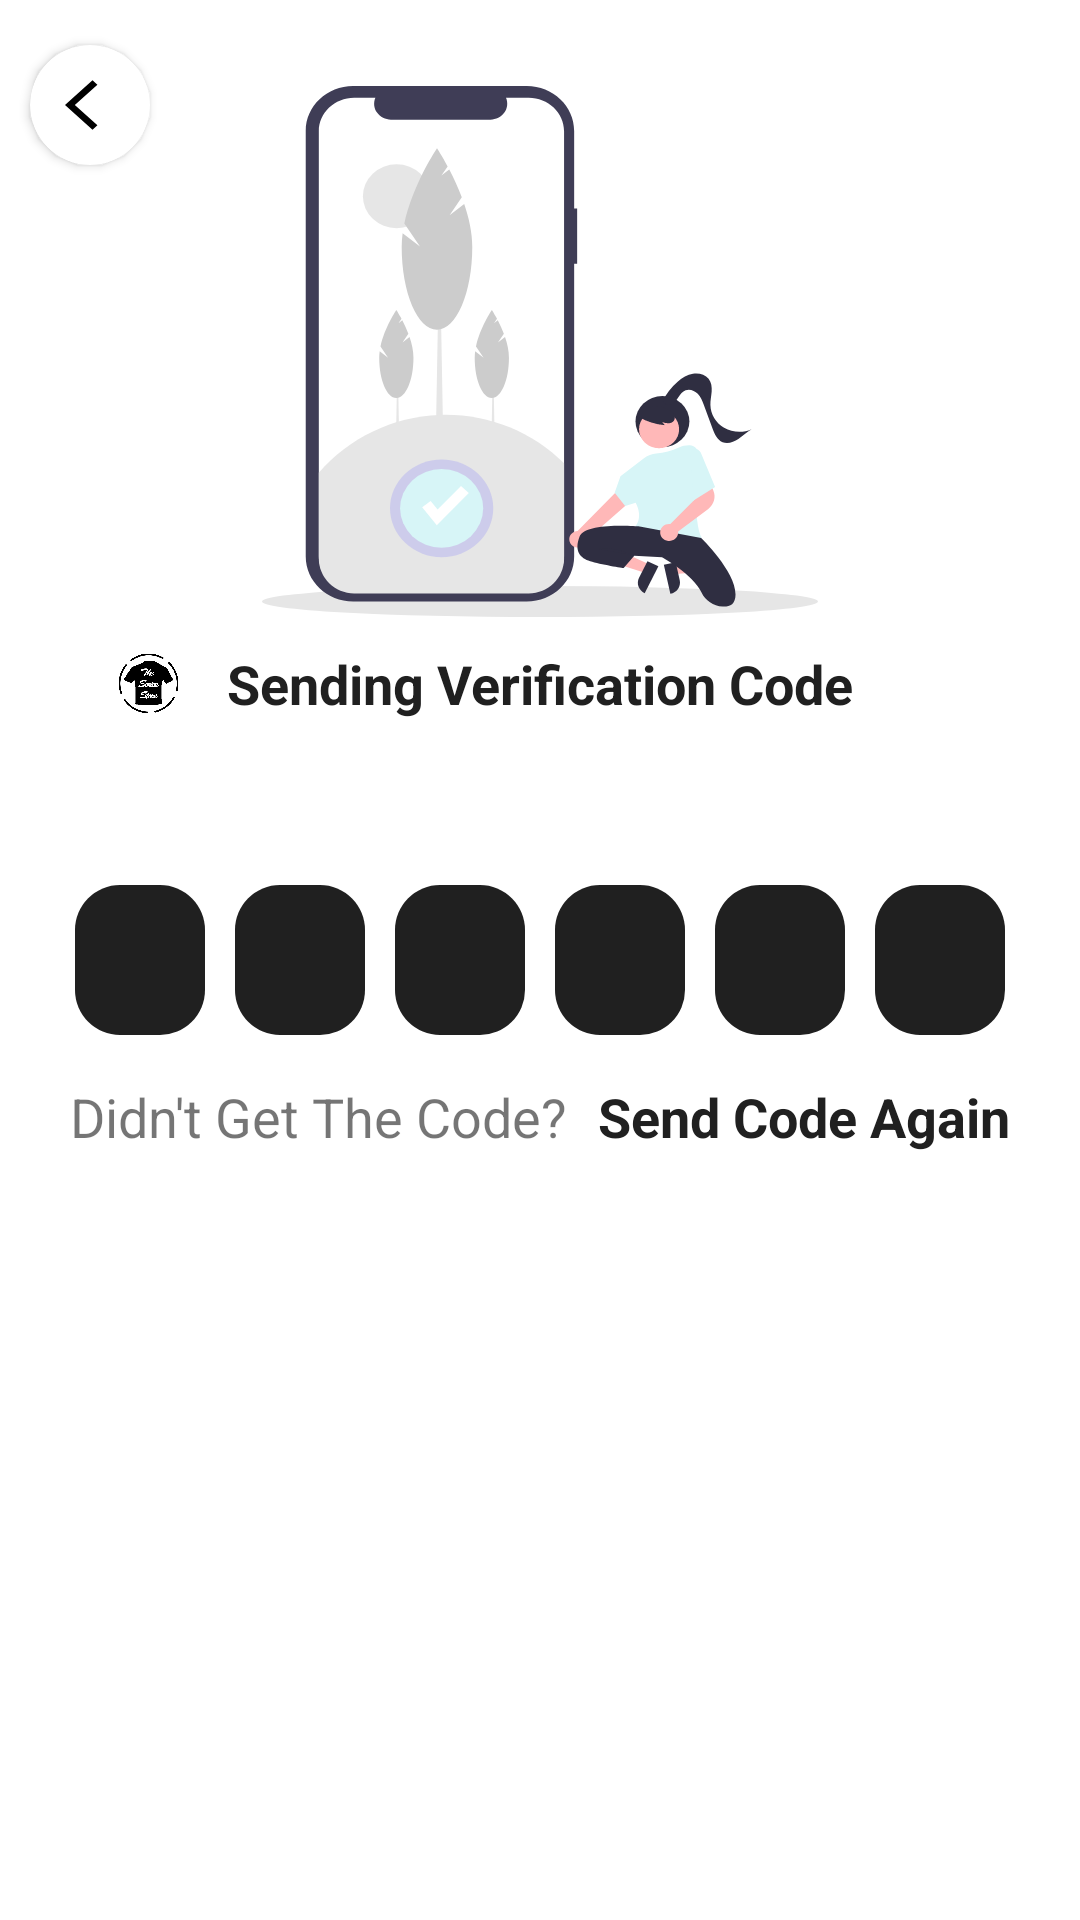

Icon bounding boxes for this 1080×1920 phone screenshot, format (x1, y1, x2, y2):
back: (65, 80, 98, 130)
